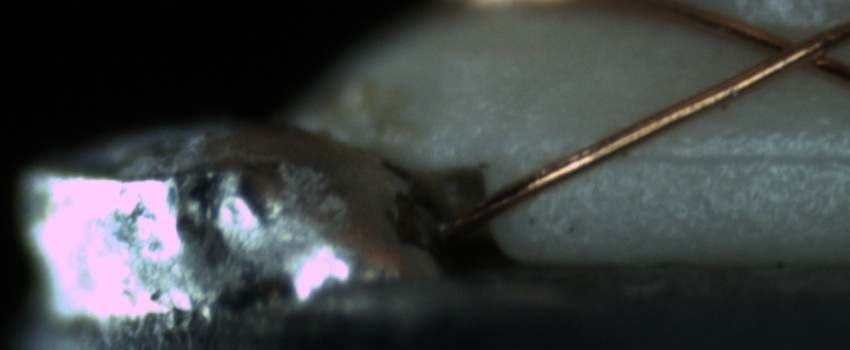CL: (743, 19, 843, 78)
DL: (608, 124, 845, 190)
